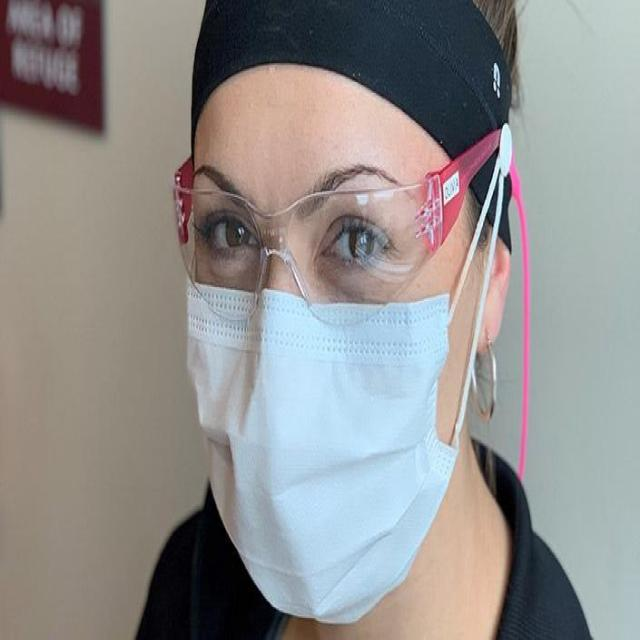Mask: (186, 276, 460, 624)
